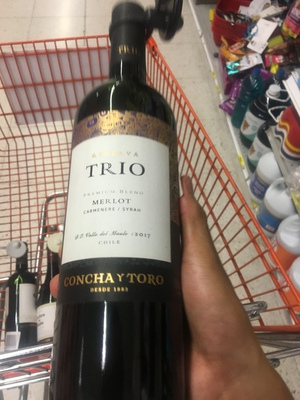trio merlot: (49, 41, 192, 390)
